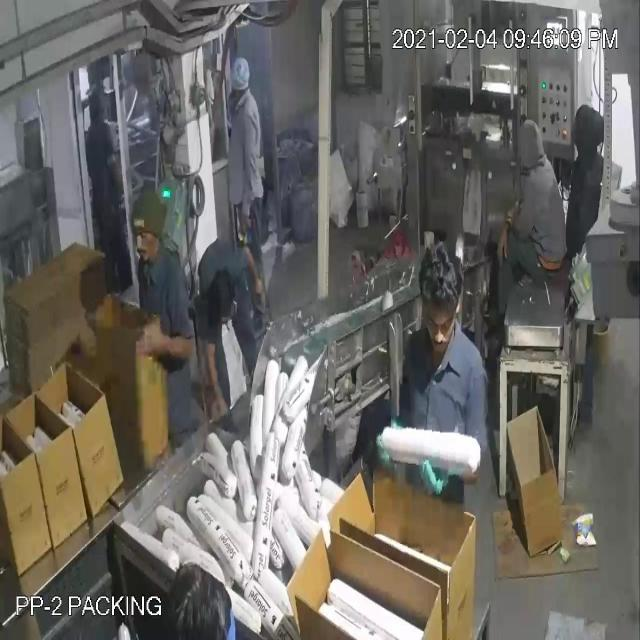No_Gloves: (25, 62, 506, 470)
